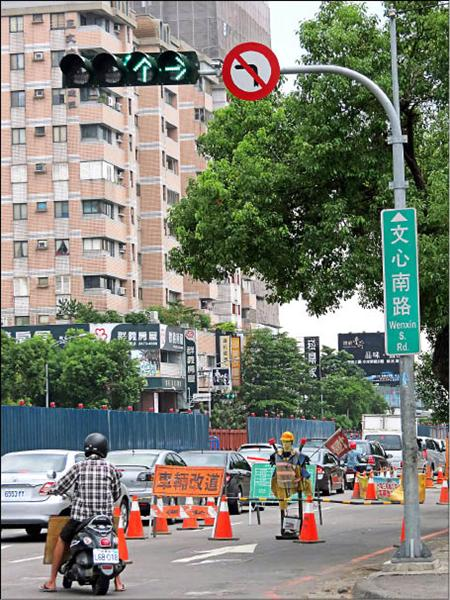No_left_turn: (222, 41, 281, 100)
